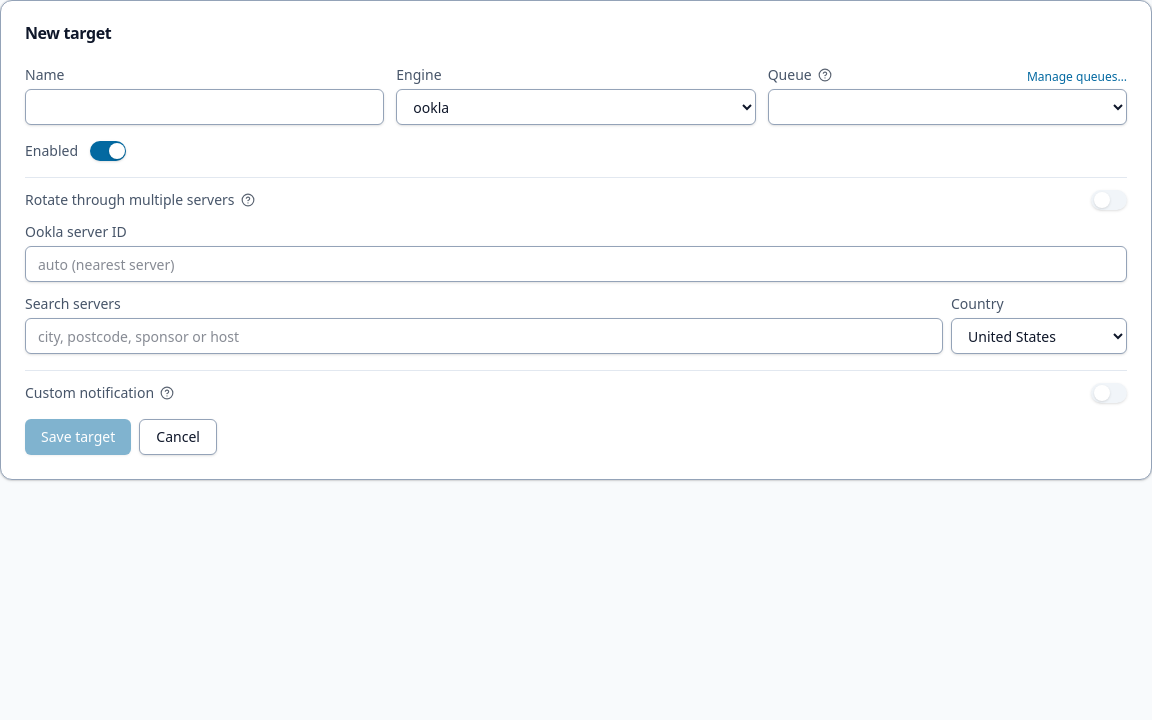
Test case: TargetForm › shows the cloudflare size fields when cloudflare is chosen
Select "cloudflare" in the dropdown labelled "Engine" at x=576, y=107, box [396, 89, 756, 125]
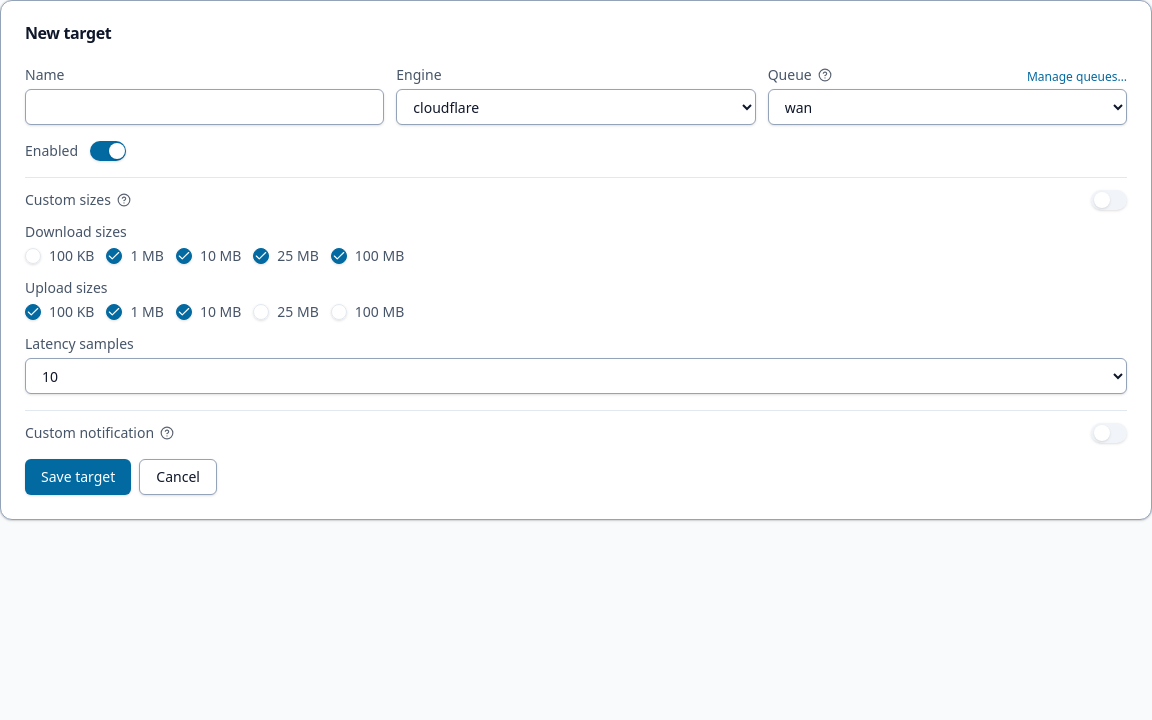
Check: the switch named "Custom sizes" in the row of "Custom sizes" is shown, box [1091, 190, 1127, 210]
Check: the number of checkboxes named "1 MB" is 2, box [106, 248, 122, 264]; [106, 304, 122, 320]
